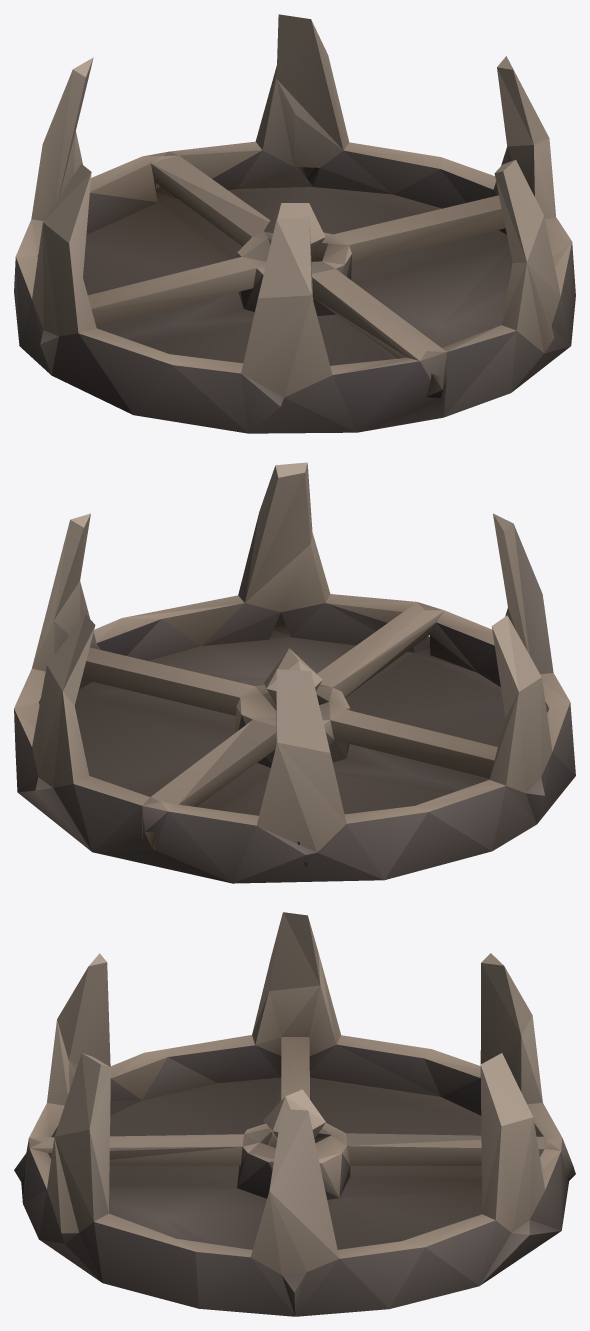
Rendered from gear_mine.glb.
The picture shows the model from 3 angles, top to bottom: view 1: azimuth 30°, elevation 25°; view 2: azimuth 150°, elevation 25°; view 3: azimuth 270°, elevation 25°; orthographic projection. The views are drawn at different scales.
Visible parts, largest first — view 1: ca_gear_mine; view 2: ca_gear_mine; view 3: ca_gear_mine.
Boxes of the visible parts, x1,y1,x2,y2 form: ca_gear_mine: (14,14,575,433); ca_gear_mine: (14,462,575,883); ca_gear_mine: (14,912,575,1316).
Size of the model in its own units: 0.5079 by 0.1939 by 0.5106.
Materials: 1 (1 with a texture image).
